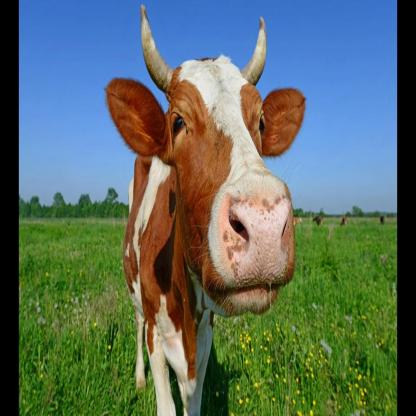cow: (107, 58, 305, 416)
